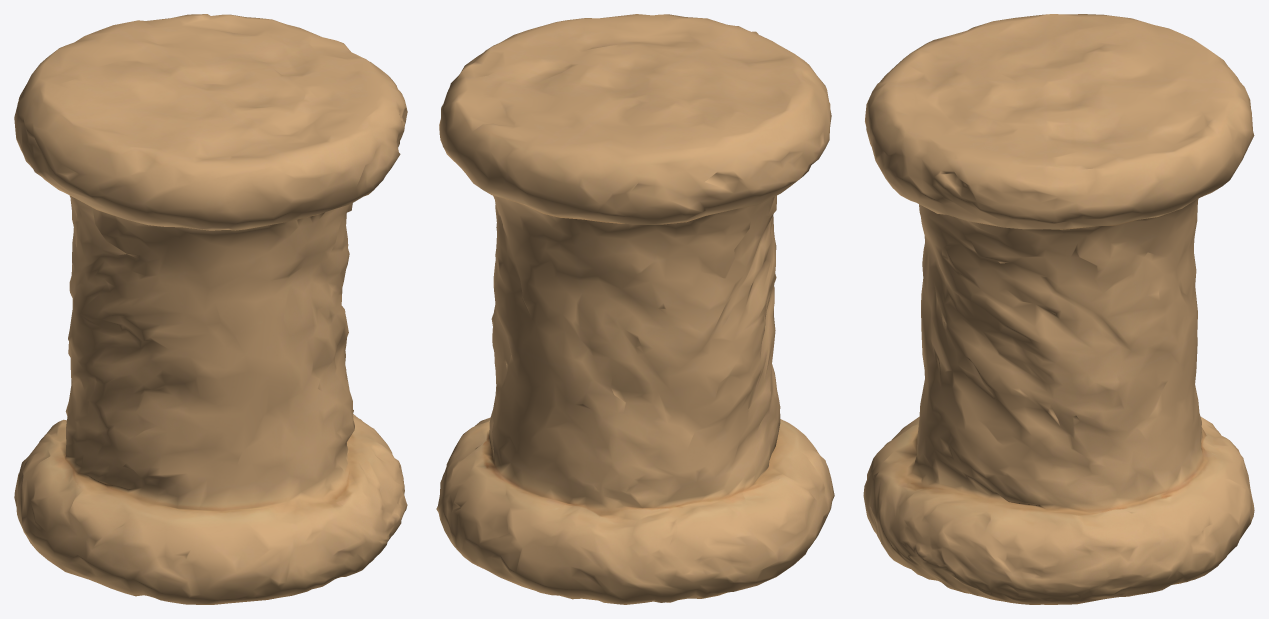
Rendered from pedestal.glb.
3 views of the same model, side by side, from view 1: azimuth 30°, elevation 25°; view 2: azimuth 150°, elevation 25°; view 3: azimuth 270°, elevation 25° (orthographic).
Parts seen in each view (by area): view 1: tripo_node_884ae8cc-4ffb-4f3c-b5aa-2504e0368d9e; view 2: tripo_node_884ae8cc-4ffb-4f3c-b5aa-2504e0368d9e; view 3: tripo_node_884ae8cc-4ffb-4f3c-b5aa-2504e0368d9e.
Boxes of the visible parts, x1,y1,x2,y2 form: tripo_node_884ae8cc-4ffb-4f3c-b5aa-2504e0368d9e: (14, 14, 407, 604); tripo_node_884ae8cc-4ffb-4f3c-b5aa-2504e0368d9e: (436, 14, 834, 604); tripo_node_884ae8cc-4ffb-4f3c-b5aa-2504e0368d9e: (863, 14, 1254, 604).
Bounding box in the file's own units: 0.7632 × 0.9809 × 0.7633.
Materials: 1 (1 with a texture image).
